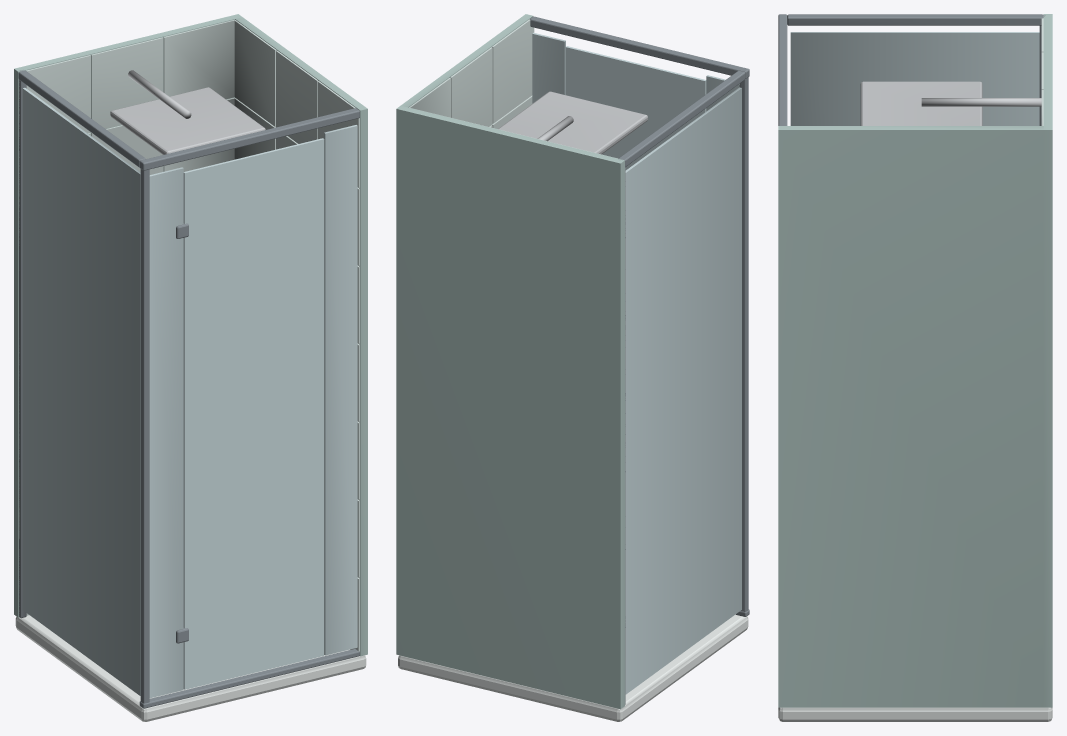
Rendered from contrastShower.glb.
3 views of the same model, side by side, from view 1: azimuth 30°, elevation 25°; view 2: azimuth 150°, elevation 25°; view 3: azimuth 270°, elevation 25° (orthographic). The views are drawn at different scales.
Visible parts, largest first — view 1: body, door; view 2: body, door; view 3: body.
Boxes of the visible parts, x1,y1,x2,y2 form: body: (14, 14, 367, 721); door: (183, 138, 324, 689); body: (396, 14, 749, 721); door: (565, 46, 706, 170); body: (778, 14, 1052, 721).
Bounding box in the file's own units: 0.9 × 2.15 × 0.9.
